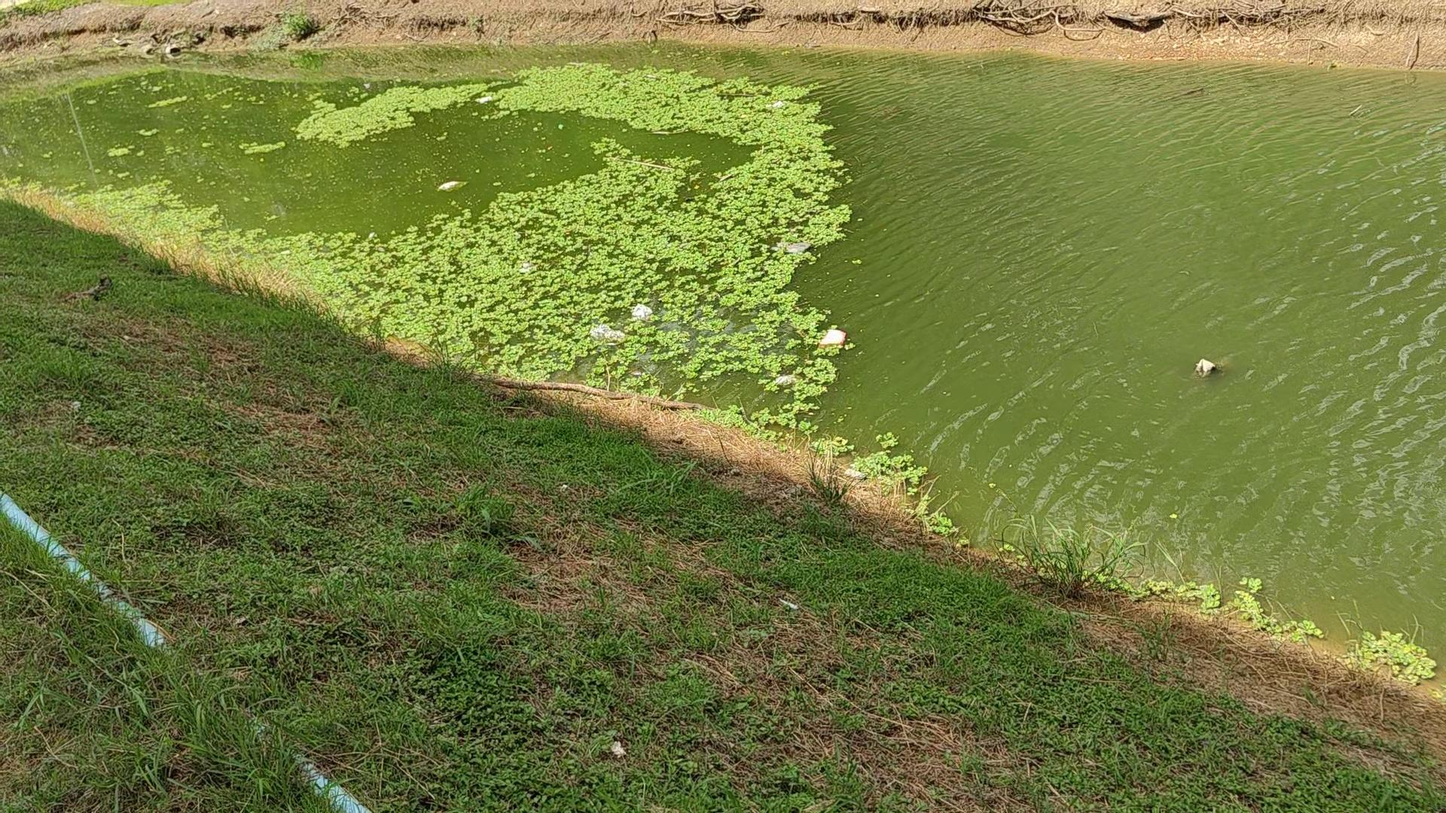trash: (590, 324, 625, 343), (819, 329, 846, 347), (1195, 358, 1219, 376), (632, 304, 653, 320), (783, 242, 812, 253), (774, 374, 797, 385), (438, 181, 463, 190), (520, 262, 534, 273), (770, 100, 786, 108), (477, 96, 493, 103)
